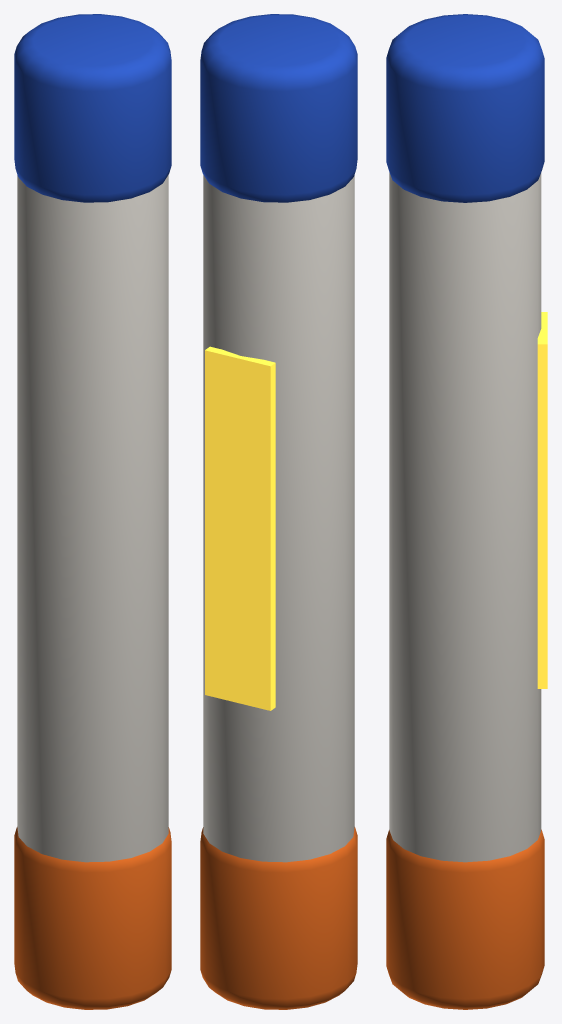
The model's file is adrenaline.glb.
The picture shows the model from 3 angles, left to right: view 1: azimuth 30°, elevation 25°; view 2: azimuth 150°, elevation 25°; view 3: azimuth 270°, elevation 25°; orthographic projection.
Visible parts, largest first — view 1: body.002, cap.002, tip.001; view 2: body.002, cap.002, window, tip.001; view 3: body.002, cap.002, tip.001, window.
Part boxes in pixels (x1=…): body.002: x1=17, y1=175, x2=168, y2=862; cap.002: x1=14, y1=14, x2=171, y2=202; tip.001: x1=14, y1=827, x2=171, y2=1009; body.002: x1=203, y1=175, x2=354, y2=862; cap.002: x1=200, y1=14, x2=357, y2=202; window: x1=205, y1=346, x2=275, y2=710; tip.001: x1=200, y1=827, x2=357, y2=1009; body.002: x1=389, y1=172, x2=541, y2=862; cap.002: x1=386, y1=14, x2=544, y2=202; tip.001: x1=386, y1=829, x2=544, y2=1009; window: x1=537, y1=312, x2=547, y2=688.
Size of the model in its own units: 0.025 by 0.164 by 0.0255.
